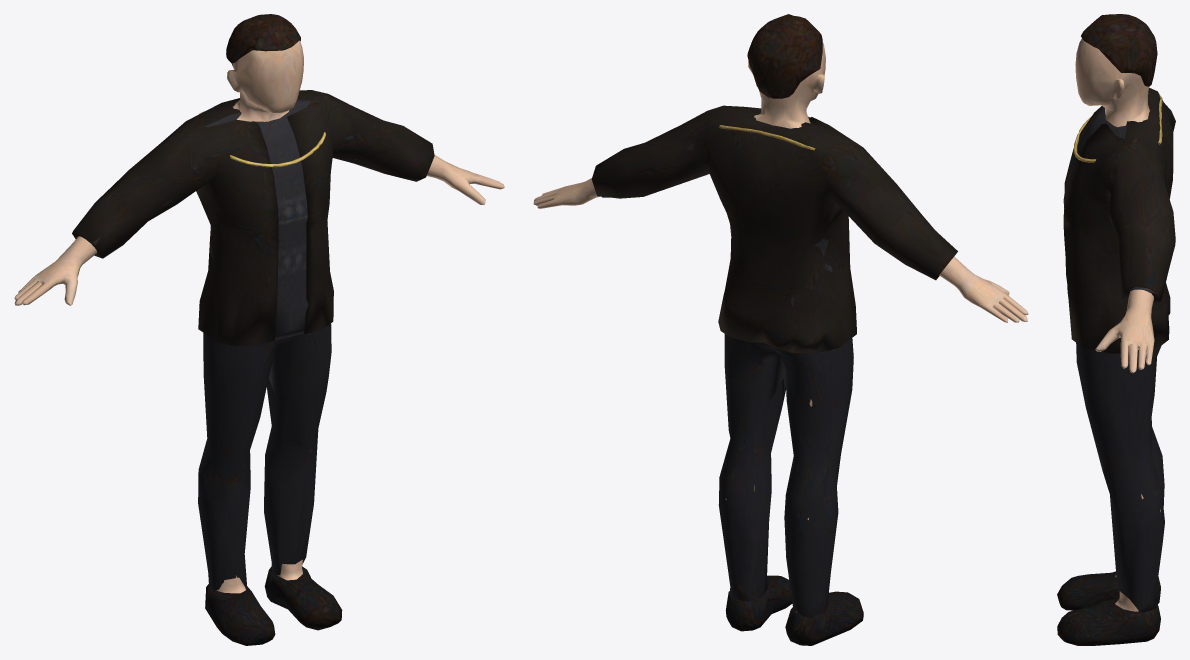
The model's file is npc_x_bandit1.glb.
3 views of the same model, side by side, from view 1: azimuth 30°, elevation 25°; view 2: azimuth 150°, elevation 25°; view 3: azimuth 270°, elevation 25° (orthographic).
Parts seen in each view (by area): view 1: Human; view 2: Human; view 3: Human.
Boxes of the visible parts, bbox=[...] form: Human: bbox=[14, 14, 504, 645]; Human: bbox=[533, 14, 1028, 645]; Human: bbox=[1057, 14, 1175, 645].
Bounding box in the file's own units: 1.58 × 1.86 × 0.3315.
Materials: 1 (1 with a texture image).
